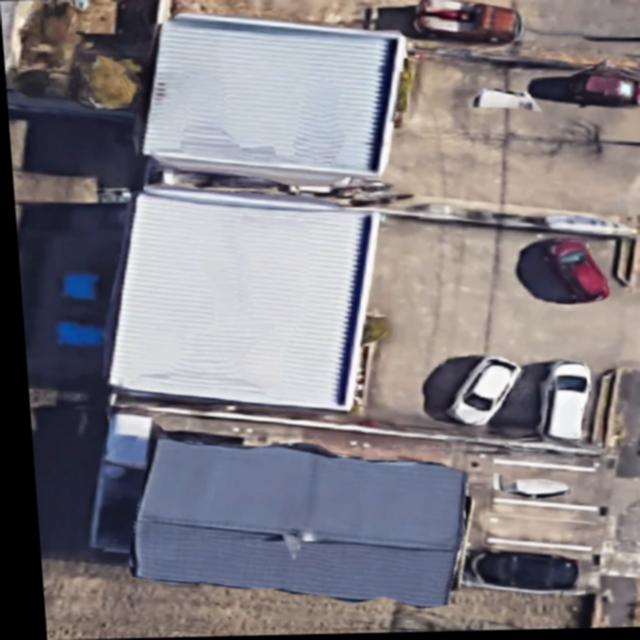Batiment: (103, 188, 373, 411), (124, 438, 457, 607), (140, 14, 405, 185)
